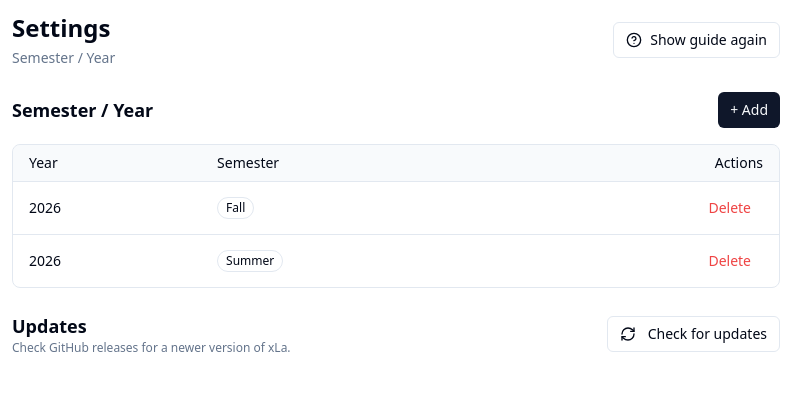
Test case: Settings › reports when the installed version is up to date
Click the button "Check for updates" at x=693, y=334, box [607,316,780,352]
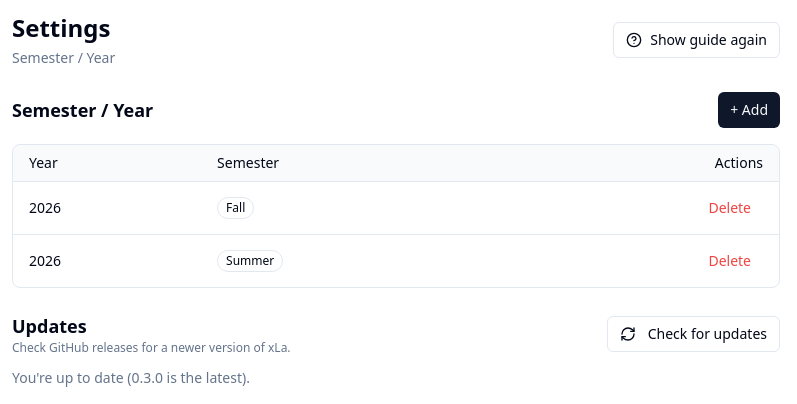
expect the text "You're up to date (0.3.0 is the latest)." is shown: met, box [12,368,250,387]
